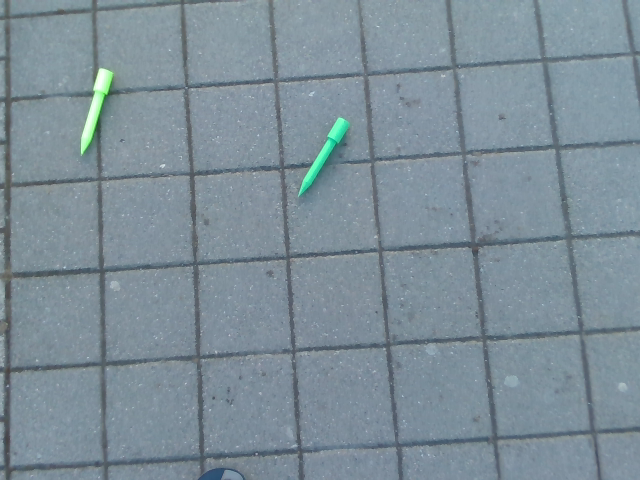Probe: (293, 111, 356, 207), (77, 63, 117, 161)
